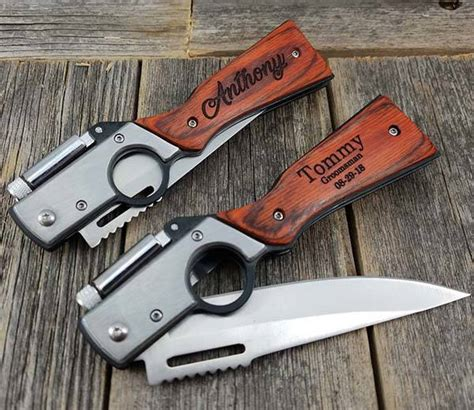knife: (75, 93, 470, 384), (7, 17, 336, 252)
